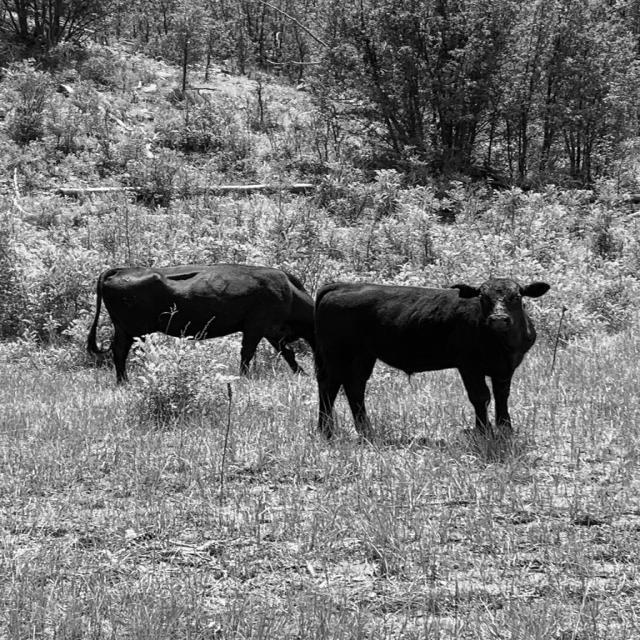cow: (315, 278, 550, 437), (88, 264, 314, 382)
